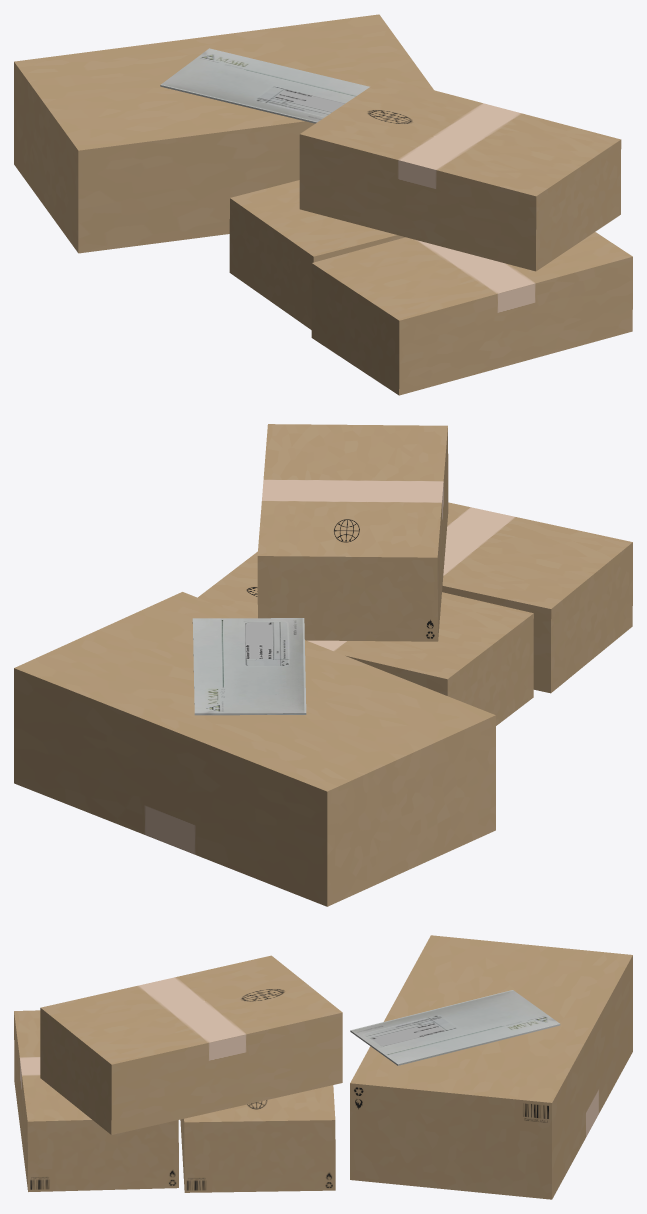
File: paretevetratapostvendita.gltf
3 views of the same model, one above another, from view 1: azimuth 30°, elevation 25°; view 2: azimuth 150°, elevation 25°; view 3: azimuth 270°, elevation 25° (orthographic). The views are drawn at different scales.
Parts seen in each view (by area): view 1: Post Vendita Scatola Grande, Post Vendita Scatola Piccola Alta, Post Vendita Scatola Piccola Dx, Post Vendita Scatola Piccola Sx, Post Vendita Busta; view 2: Post Vendita Scatola Grande, Post Vendita Scatola Piccola Alta, Post Vendita Scatola Piccola Dx, Post Vendita Scatola Piccola Sx, Post Vendita Busta; view 3: Post Vendita Scatola Grande, Post Vendita Scatola Piccola Alta, Post Vendita Scatola Piccola Dx, Post Vendita Scatola Piccola Sx, Post Vendita Busta.
Part boxes in pixels (bbox=[...]): Post Vendita Scatola Grande: bbox=[14, 14, 433, 253]; Post Vendita Scatola Piccola Alta: bbox=[299, 77, 621, 271]; Post Vendita Scatola Piccola Dx: bbox=[311, 232, 632, 395]; Post Vendita Scatola Piccola Sx: bbox=[229, 180, 404, 329]; Post Vendita Busta: bbox=[160, 48, 369, 123]; Post Vendita Scatola Grande: bbox=[14, 592, 495, 906]; Post Vendita Scatola Piccola Alta: bbox=[257, 424, 448, 641]; Post Vendita Scatola Piccola Dx: bbox=[442, 502, 632, 693]; Post Vendita Scatola Piccola Sx: bbox=[198, 551, 533, 725]; Post Vendita Busta: bbox=[192, 618, 306, 715]; Post Vendita Scatola Grande: bbox=[350, 935, 632, 1199]; Post Vendita Scatola Piccola Alta: bbox=[40, 955, 342, 1134]; Post Vendita Scatola Piccola Dx: bbox=[14, 1010, 178, 1191]; Post Vendita Scatola Piccola Sx: bbox=[180, 1085, 335, 1192]; Post Vendita Busta: bbox=[350, 990, 560, 1065].
Bounding box in the file's own units: 0.4753 × 0.1854 × 0.7262.
Materials: 2 (2 with a texture image).
